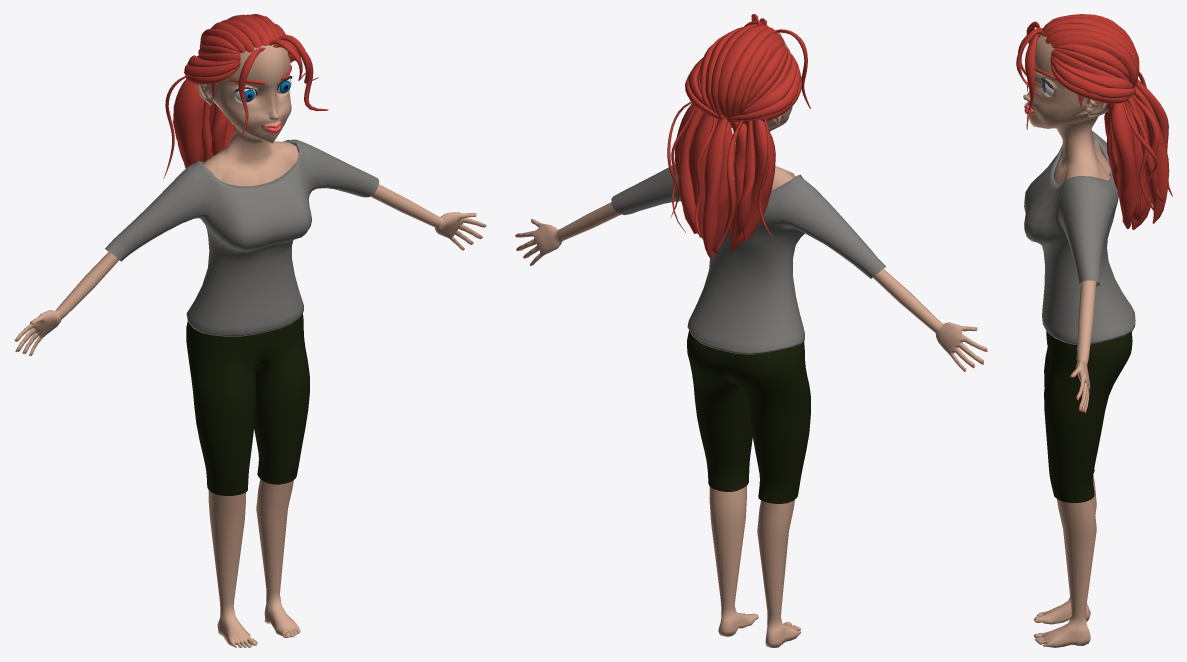
3 views of the same model, side by side, from view 1: azimuth 30°, elevation 25°; view 2: azimuth 150°, elevation 25°; view 3: azimuth 270°, elevation 25° (orthographic).
Parts seen in each view (by area): view 1: Model_1, Shirt.002, Pants.002; view 2: Model_1, Shirt.002, Pants.002; view 3: Model_1, Shirt.002, Pants.002.
Boxes of the visible parts, x1,y1,x2,y2 form: Model_1: (14, 14, 486, 647); Shirt.002: (105, 139, 379, 336); Pants.002: (186, 313, 309, 495); Model_1: (515, 14, 987, 647); Shirt.002: (611, 164, 886, 354); Pants.002: (687, 330, 810, 503); Model_1: (1016, 14, 1172, 647); Shirt.002: (1024, 131, 1135, 344); Pants.002: (1044, 331, 1132, 502).
Bounding box in the file's own units: 389 × 479 × 111.
